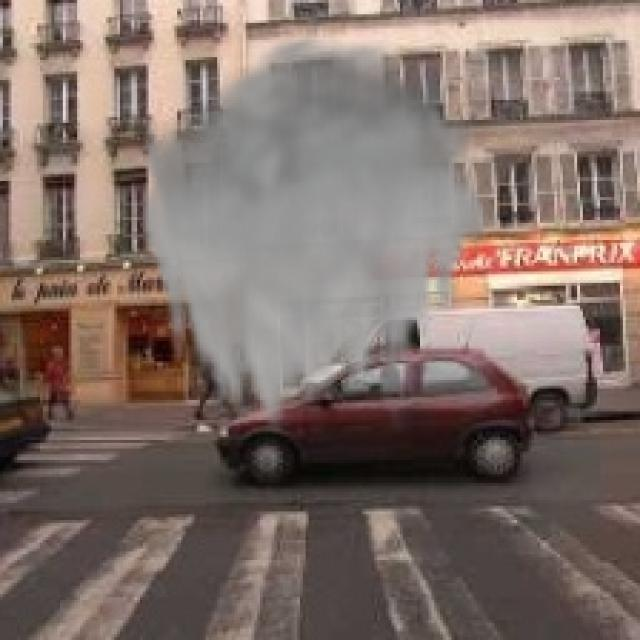smoke: (137, 26, 494, 446)
